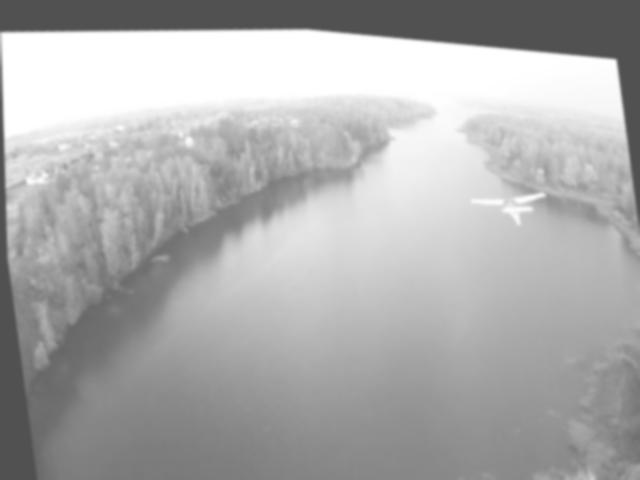hedef: (464, 165, 554, 231)
